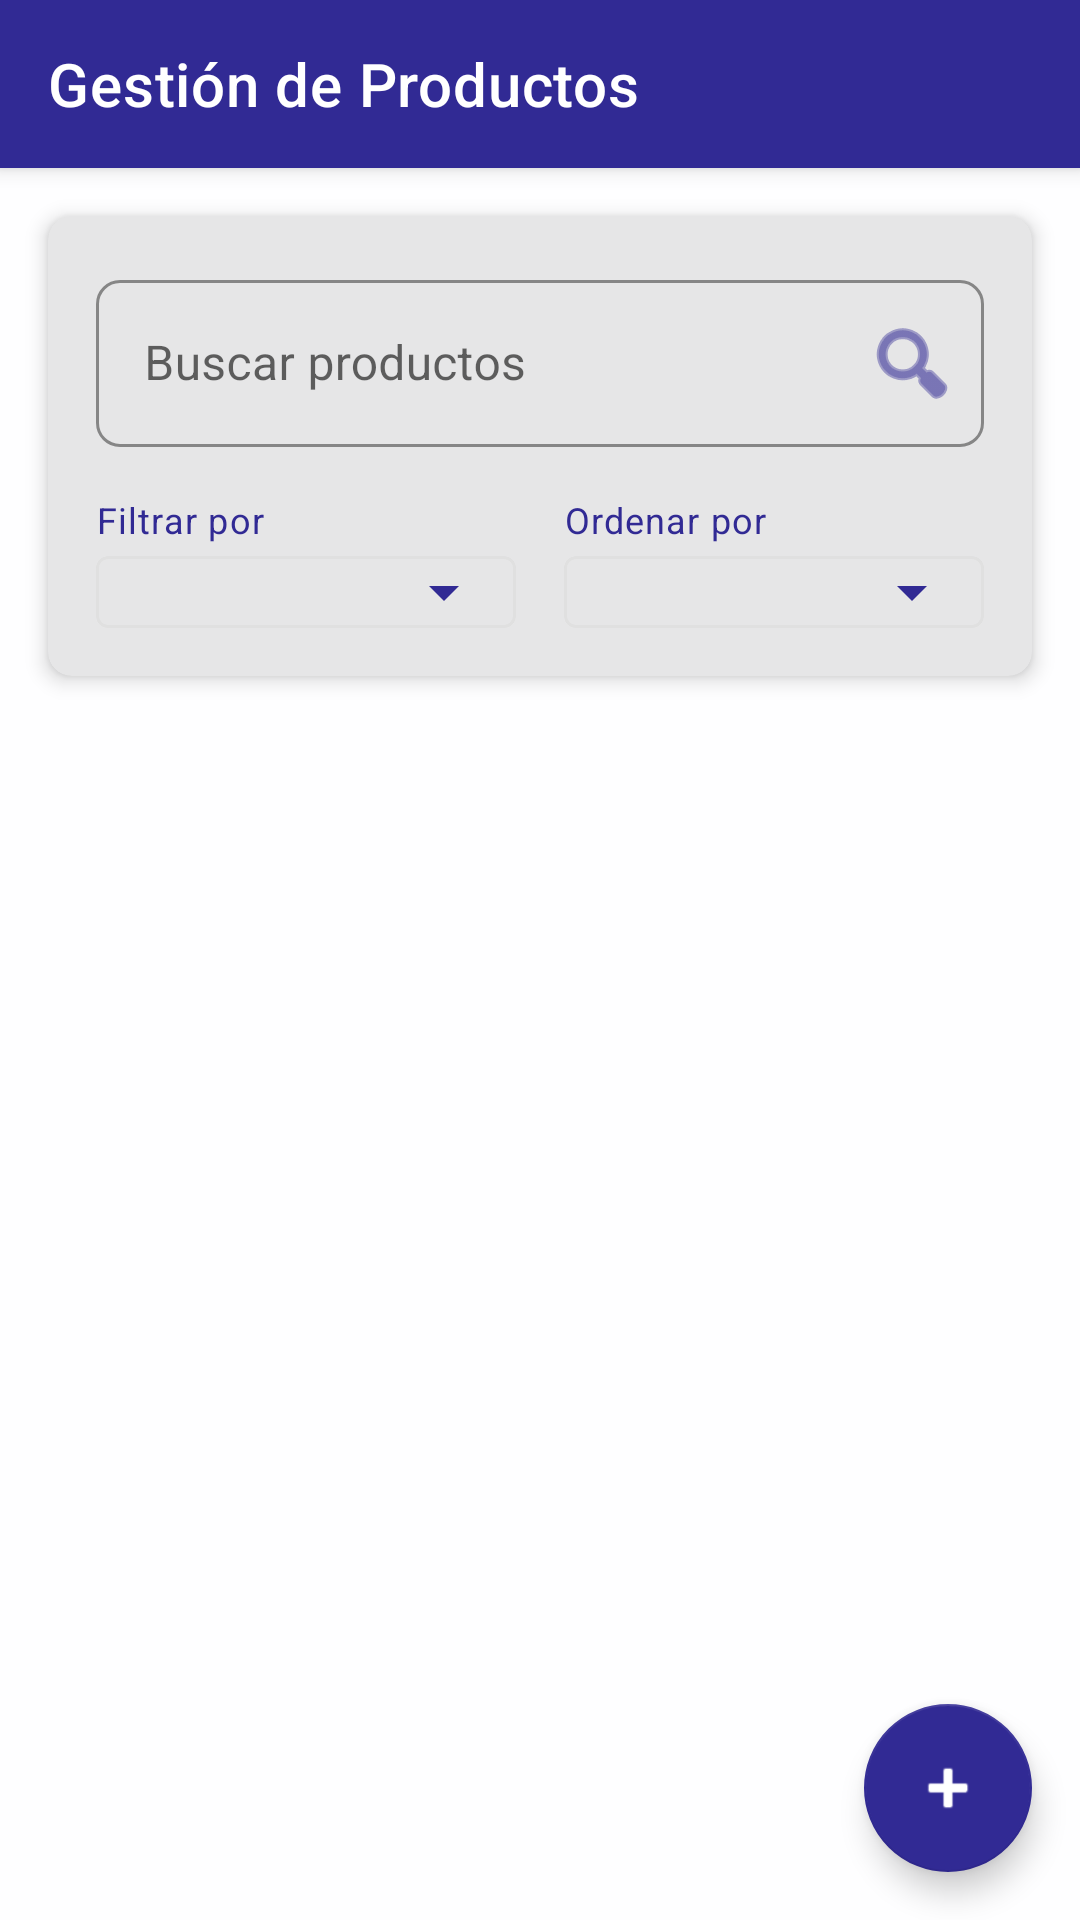

Where to tap for icons on this 1080*1920 app screen, as [x,y]:
Agregar Producto: [948,1788]
